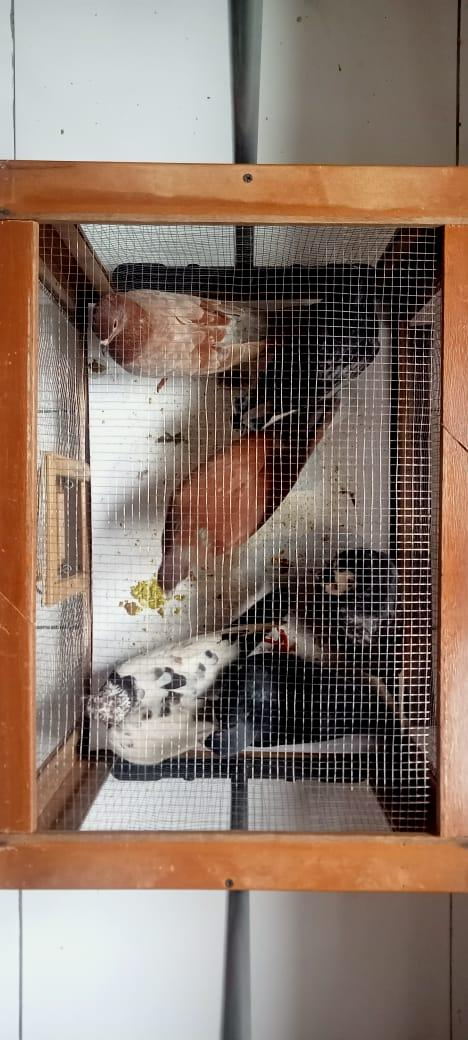Merpati: (157, 396, 338, 601), (79, 590, 290, 763), (227, 266, 382, 433), (198, 654, 389, 759), (90, 288, 309, 378), (309, 550, 400, 703)
